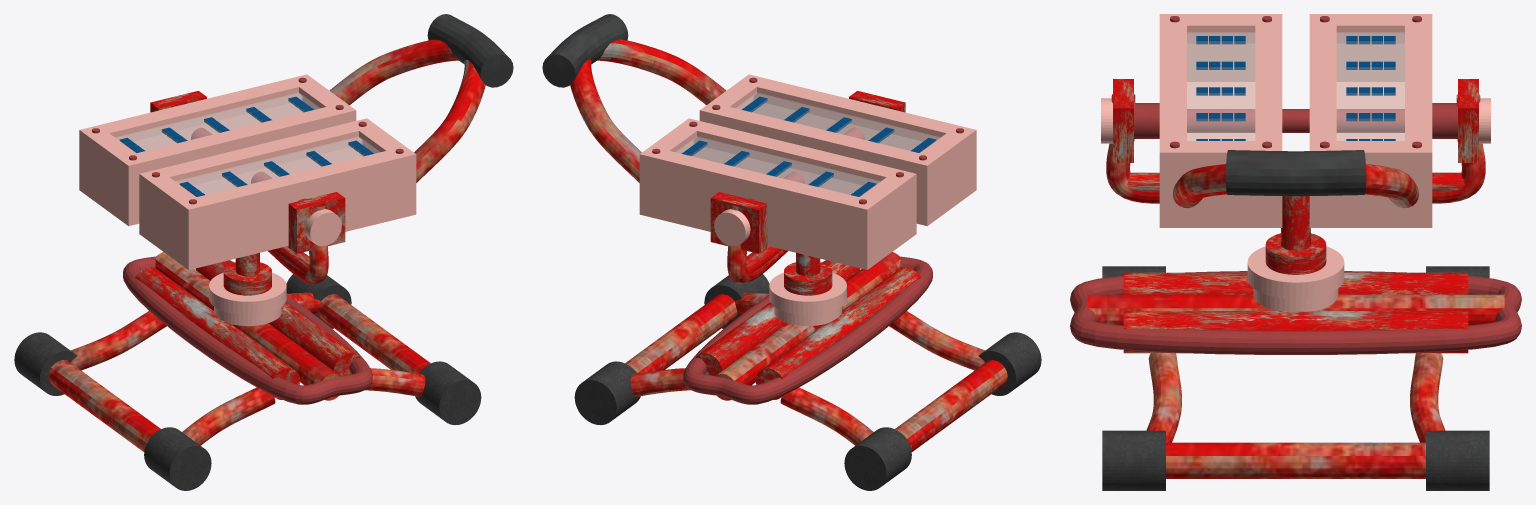
Rendered from Equipment_LED_work_light__2114.glb.
3 views of the same model, side by side, from view 1: azimuth 30°, elevation 25°; view 2: azimuth 150°, elevation 25°; view 3: azimuth 270°, elevation 25° (orthographic). The views are drawn at different scales.
Parts seen in each view (by area): view 1: light_head::housing_wall_inner_0, light_head::carry_handle, stand_frame::leg_pin_1, folding_leg_1::hinge_barrel, folding_leg_1::foot_bar, stand_frame::apex_crossbar, light_head::bezel_inner_0, light_head::bezel_outer_0, light_head::bezel_outer_1, folding_leg_0::foot_bar, light_head::bezel_inner_1, light_head::led_glass_panel_1 (+30 smaller); view 2: light_head::housing_wall_outer_1, light_head::carry_handle, stand_frame::leg_pin_1, folding_leg_1::hinge_barrel, folding_leg_1::foot_bar, stand_frame::apex_crossbar, light_head::bezel_outer_1, light_head::bezel_inner_1, light_head::bezel_inner_0, folding_leg_0::foot_bar, light_head::bezel_outer_0, light_head::led_glass_panel_0 (+29 smaller); view 3: stand_frame::leg_pin_0, folding_leg_0::foot_bar, folding_leg_0::hinge_barrel, stand_frame::apex_crossbar, light_head::handle_grip, light_head::led_glass_panel_0, light_head::led_glass_panel_1, folding_leg_1::hinge_barrel, folding_leg_0::rubber_foot_0, folding_leg_0::rubber_foot_1, light_head::housing_back_1, light_head::housing_back_0 (+34 smaller).
Boxes of the visible parts, left/top/right/bottom form: light_head::housing_wall_inner_0: left=182, top=158, right=416, bottom=265; light_head::carry_handle: left=329, top=39, right=485, bottom=182; stand_frame::leg_pin_1: left=123, top=256, right=336, bottom=404; folding_leg_1::hinge_barrel: left=135, top=267, right=299, bottom=399; folding_leg_1::foot_bar: left=48, top=360, right=160, bottom=451; stand_frame::apex_crossbar: left=154, top=252, right=340, bottom=400; light_head::bezel_inner_0: left=197, top=151, right=397, bottom=211; light_head::bezel_outer_0: left=158, top=123, right=358, bottom=181; light_head::bezel_outer_1: left=99, top=79, right=298, bottom=137; folding_leg_0::foot_bar: left=318, top=294, right=430, bottom=373; light_head::bezel_inner_1: left=137, top=107, right=337, bottom=167; light_head::led_glass_panel_1: left=116, top=93, right=319, bottom=152; light_head::housing_wall_outer_1: left=639, top=161, right=873, bottom=266; light_head::carry_handle: left=570, top=39, right=726, bottom=182; stand_frame::leg_pin_1: left=719, top=256, right=932, bottom=404; folding_leg_1::hinge_barrel: left=756, top=267, right=920, bottom=399; folding_leg_1::foot_bar: left=895, top=360, right=1007, bottom=451; stand_frame::apex_crossbar: left=715, top=252, right=901, bottom=400; light_head::bezel_outer_1: left=658, top=151, right=858, bottom=211; light_head::bezel_inner_1: left=697, top=123, right=897, bottom=181; light_head::bezel_inner_0: left=757, top=79, right=956, bottom=137; folding_leg_0::foot_bar: left=625, top=294, right=737, bottom=373; light_head::bezel_outer_0: left=718, top=107, right=918, bottom=167; light_head::led_glass_panel_0: left=736, top=93, right=939, bottom=152; stand_frame::leg_pin_0: left=1070, top=302, right=1521, bottom=354; folding_leg_0::foot_bar: left=1166, top=442, right=1425, bottom=478; folding_leg_0::hinge_barrel: left=1123, top=311, right=1468, bottom=353; stand_frame::apex_crossbar: left=1087, top=294, right=1504, bottom=325; light_head::handle_grip: left=1225, top=150, right=1366, bottom=196; light_head::led_glass_panel_0: left=1187, top=32, right=1254, bottom=140; light_head::led_glass_panel_1: left=1337, top=32, right=1404, bottom=140; folding_leg_1::hinge_barrel: left=1123, top=272, right=1468, bottom=294; folding_leg_0::rubber_foot_0: left=1426, top=430, right=1489, bottom=490; folding_leg_0::rubber_foot_1: left=1102, top=430, right=1165, bottom=490; light_head::housing_back_1: left=1309, top=82, right=1432, bottom=227; light_head::housing_back_0: left=1159, top=82, right=1282, bottom=227.
Size of the model in its own units: 0.379 by 0.285 by 0.2988.
6 materials, 3 textured.
